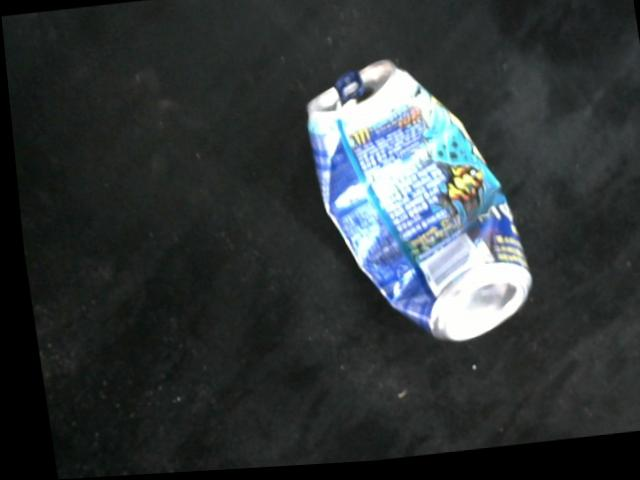can: (301, 52, 533, 354)
